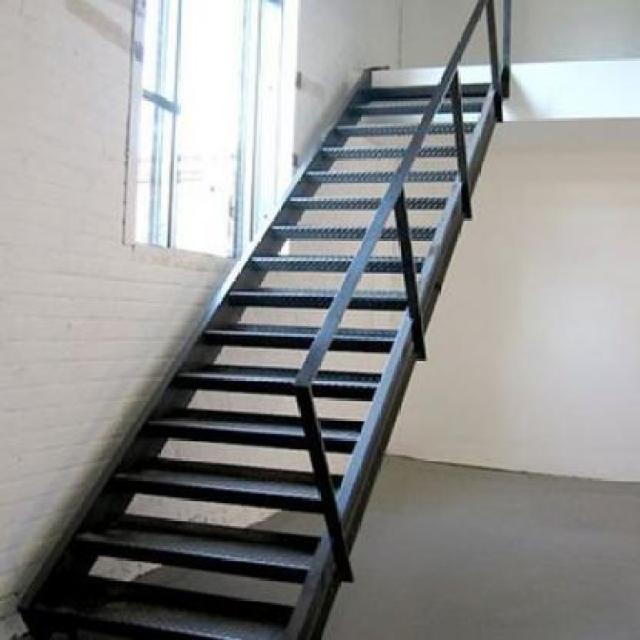stair: (13, 41, 532, 633)
